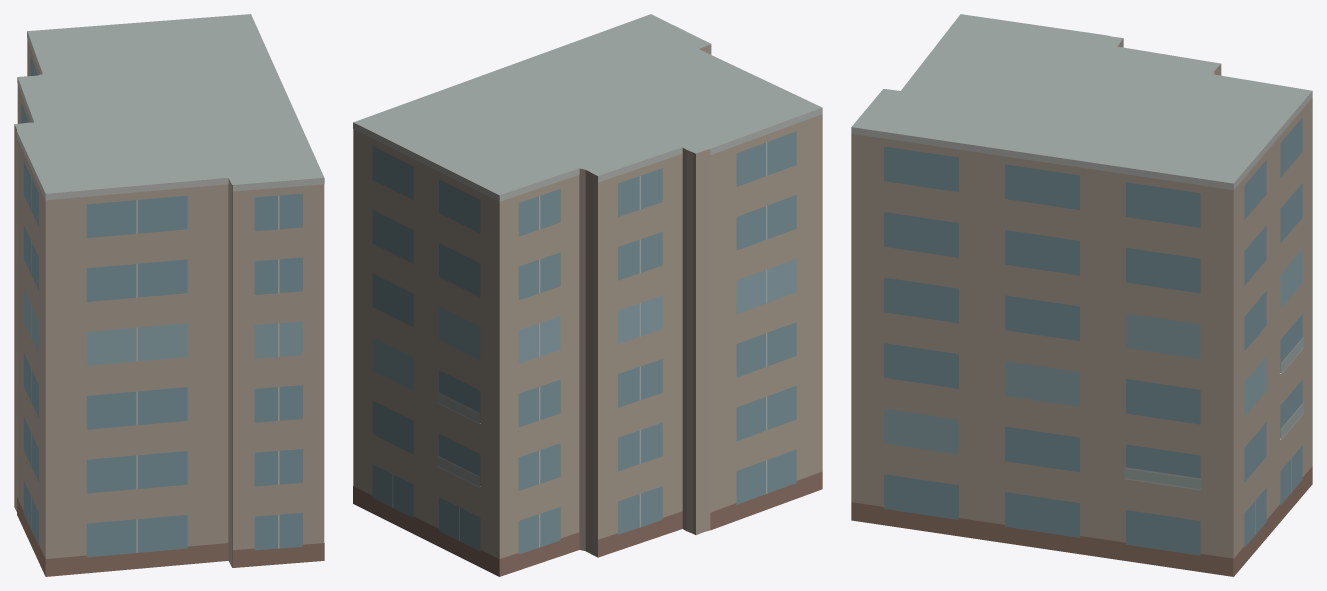
File: survey-upis-32887638.glb
3 renders of one model, left to right at view 1: azimuth 30°, elevation 25°; view 2: azimuth 150°, elevation 25°; view 3: azimuth 270°, elevation 25°, orthographic. The views are drawn at different scales.
Visible parts, largest first — view 1: survey-upis-32887638.tmp; view 2: survey-upis-32887638.tmp; view 3: survey-upis-32887638.tmp.
Part boxes in pixels (x1,y1,x2,y2): survey-upis-32887638.tmp: (14,14,324,576); survey-upis-32887638.tmp: (353,14,822,576); survey-upis-32887638.tmp: (851,14,1312,576).
Bounding box in the file's own units: 13.41 × 14.5 × 15.42.
